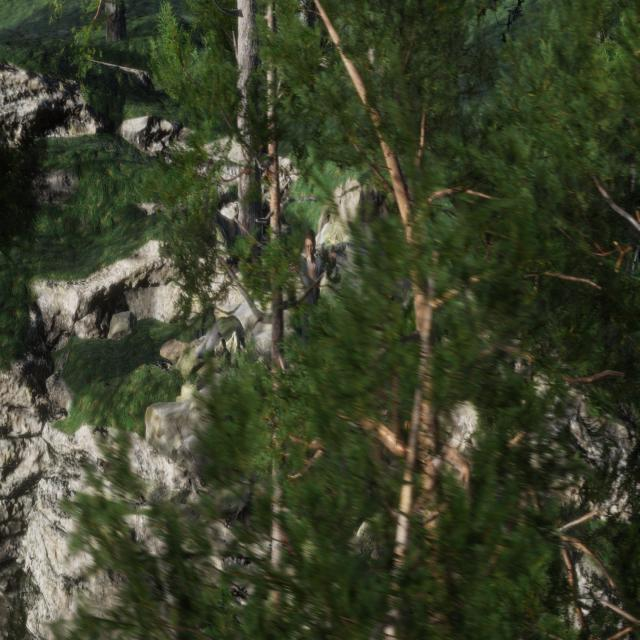Human: (287, 216, 339, 301)
